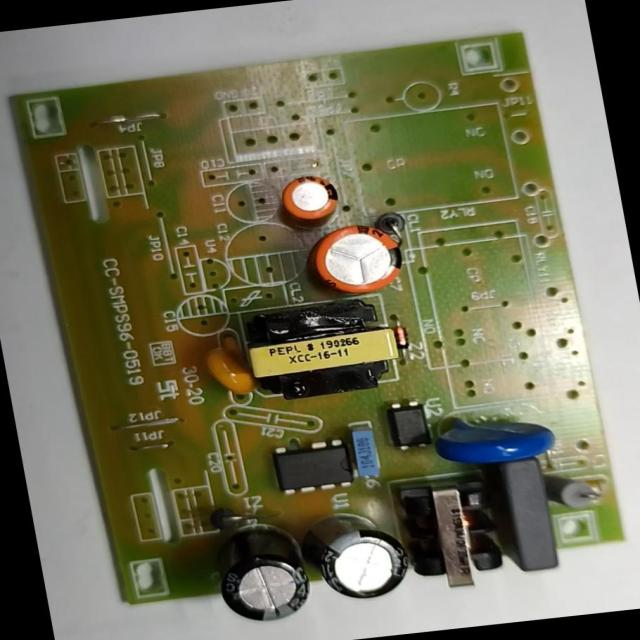Cap1: (304, 218, 414, 300)
Cap2: (273, 169, 344, 229)
Cap3: (302, 508, 421, 605)
Cap4: (203, 514, 320, 630)
MOSFET: (266, 434, 364, 503)
Mov: (428, 401, 564, 474)
Resistor: (545, 466, 606, 515)
Transformer: (237, 292, 409, 407), (394, 476, 516, 594)
